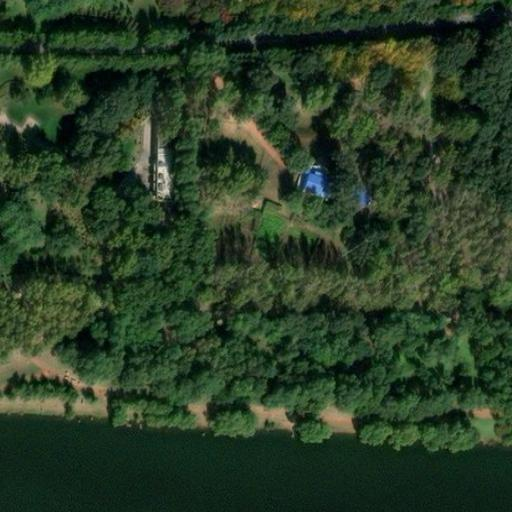building: (305, 171, 375, 213), (152, 87, 174, 198), (206, 65, 228, 89)
